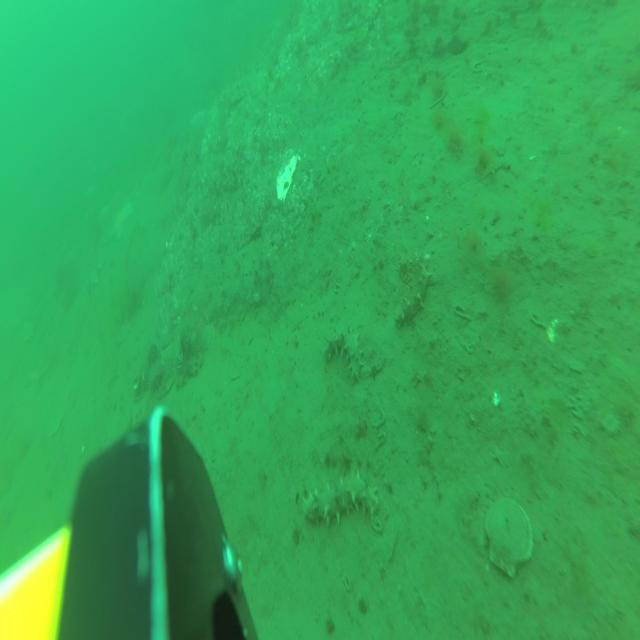holothurian: (302, 472, 379, 527), (396, 255, 432, 326), (326, 325, 363, 383)
scallop: (486, 494, 532, 578)
starfish: (111, 200, 133, 243)
